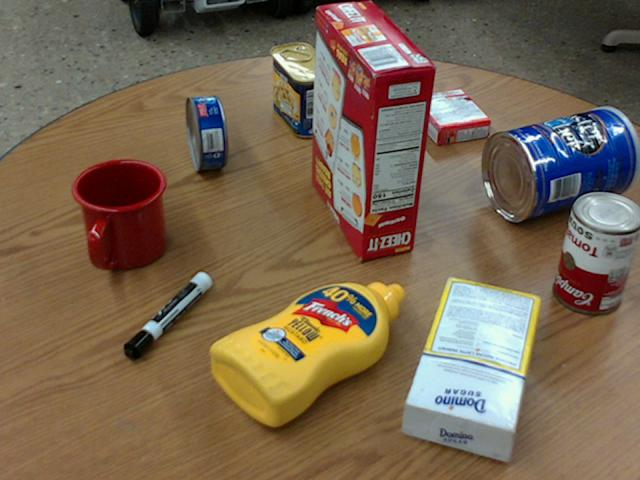cracker_box: (310, 0, 434, 259)
gelatin_box: (409, 88, 490, 144)
large_marker: (123, 271, 210, 358)
master_chef_can: (481, 106, 639, 220)
mug: (71, 159, 166, 269)
mustard_bottle: (209, 281, 403, 427)
potted_meat_can: (268, 42, 335, 136)
sugar_box: (401, 276, 541, 461)
tomato_soup_can: (553, 189, 639, 311)
tuna_fish_can: (186, 95, 226, 169)
